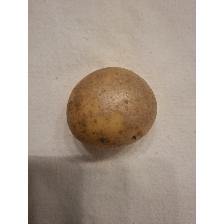Kartoffel: (65, 61, 161, 151)
